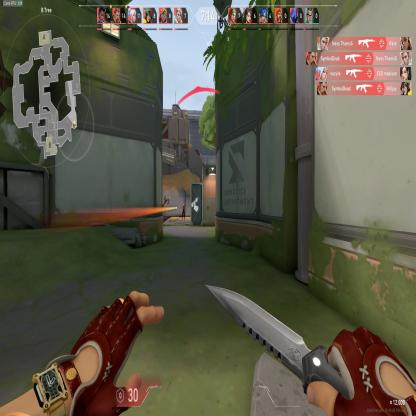enemy: (181, 203, 186, 220)
